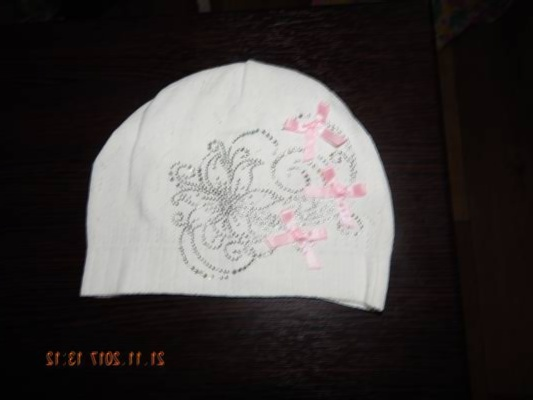Hat: (52, 29, 428, 341)
